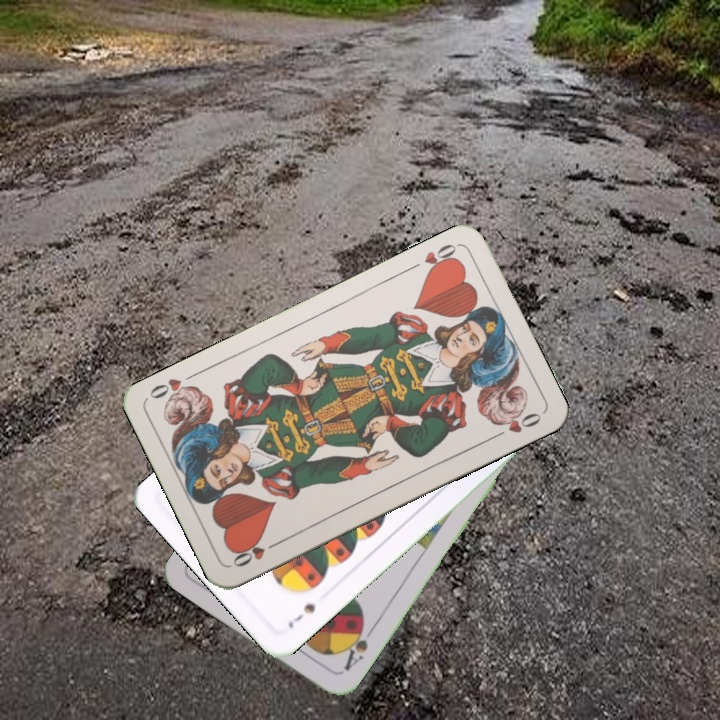HO: (405, 239, 461, 277), (228, 537, 283, 570)
S7: (284, 599, 318, 631)
SA: (338, 618, 377, 674)
